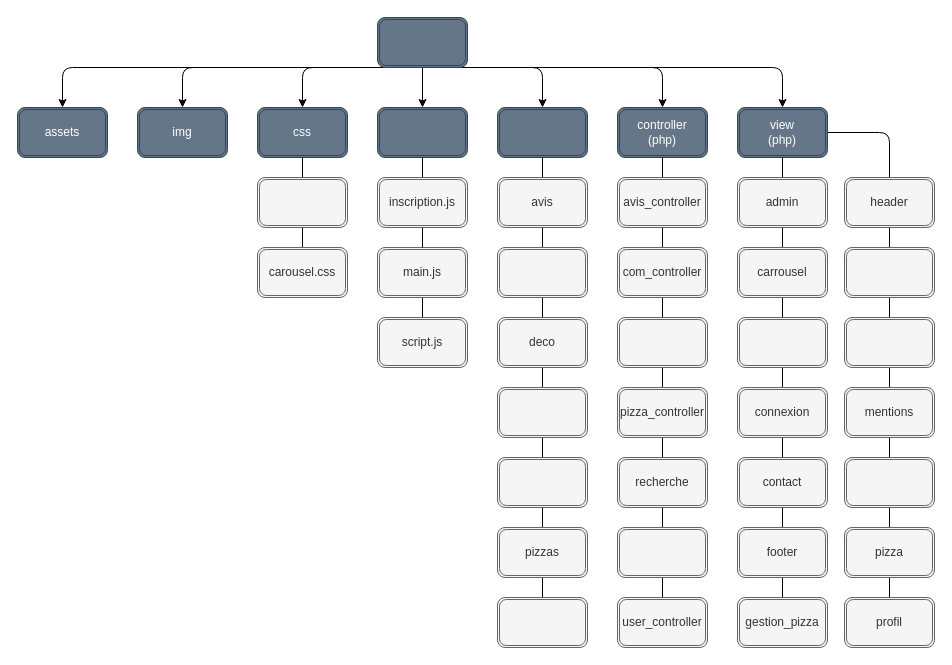
Image size: 952x665. Some labels were removed from this diagram. Here are the shapes that lost their labels. From the top down, the centre of each, then its label:
pixel 422 42: Paco Pizza
pixel 422 132: js
pixel 542 132: model (php)
pixel 302 202: style.css
pixel 542 272: commentaires
pixel 889 272: index
pixel 662 342: notes_controller
pixel 782 342: categories
pixel 889 342: inscription
pixel 542 412: model
pixel 542 482: notes
pixel 889 482: patron
pixel 662 552: upload
pixel 542 622: users
